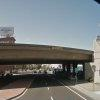Bridge: (2, 32, 92, 72)
